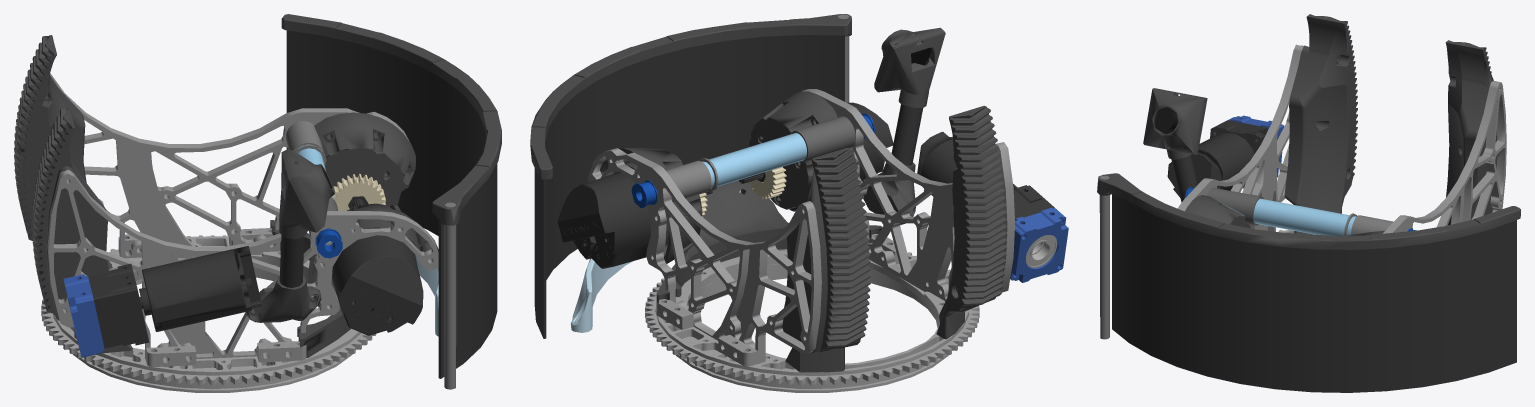
Rendered from 1690-turret.glb.
3 renders of one model, left to right at view 1: azimuth 30°, elevation 25°; view 2: azimuth 150°, elevation 25°; view 3: azimuth 270°, elevation 25°, orthographic. The views are drawn at different scales.
Visible parts, largest first — view 1: Kraken X60 Brushless Motor, 1690-26-451-04A, 1690-26-431-01A-Mirrored, 1690-26-433-03A, 1690-26-431-14A, 217-2625-026 Rev1, 1690-26-431-09A 28T, 1690-26-431-12A, Part 124, Part 15; view 2: 1690-26-451-04A, Kraken X60 Brushless Motor, 1690-26-431-01A-Mirrored, 1690-26-433-03A, Part 122, 217-2625-026 Rev1, 1690-26-431-11A, Part 15, 1690-26-431-12A, 1690-26-431-09A 28T, 217-2742-001 Rev4, Part 124 (+1 smaller); view 3: Kraken X60 Brushless Motor, 1690-26-451-04A, 1690-26-431-01A-Mirrored, Part 122, 1690-26-431-14A, 1690-26-431-11A, 1690-26-431-12A, Part 117, 217-2625-026 Rev1.
Boxes of the visible parts, x1=… form: Kraken X60 Brushless Motor: x1=88, y1=30, x2=497, y2=378; 1690-26-451-04A: x1=14, y1=14, x2=501, y2=357; 1690-26-431-01A-Mirrored: x1=47, y1=73, x2=438, y2=366; 1690-26-433-03A: x1=41, y1=235, x2=376, y2=392; 1690-26-431-14A: x1=295, y1=145, x2=456, y2=389; 217-2625-026 Rev1: x1=63, y1=274, x2=104, y2=357; 1690-26-431-09A 28T: x1=332, y1=173, x2=385, y2=210; 1690-26-431-12A: x1=285, y1=121, x2=323, y2=157; Part 124: x1=315, y1=228, x2=342, y2=258; Part 15: x1=415, y1=255, x2=438, y2=336; 1690-26-451-04A: x1=530, y1=14, x2=1007, y2=372; Kraken X60 Brushless Motor: x1=534, y1=35, x2=1054, y2=338; 1690-26-431-01A-Mirrored: x1=587, y1=89, x2=1014, y2=366; 1690-26-433-03A: x1=645, y1=249, x2=979, y2=392; Part 122: x1=702, y1=133, x2=806, y2=188; 217-2625-026 Rev1: x1=1010, y1=207, x2=1068, y2=282; 1690-26-431-11A: x1=790, y1=116, x2=855, y2=162; Part 15: x1=570, y1=190, x2=740, y2=332; 1690-26-431-12A: x1=665, y1=160, x2=711, y2=202; 1690-26-431-09A 28T: x1=699, y1=166, x2=786, y2=216; 217-2742-001 Rev4: x1=1026, y1=235, x2=1057, y2=267; Part 124: x1=631, y1=113, x2=875, y2=207; Kraken X60 Brushless Motor: x1=1112, y1=120, x2=1516, y2=392; 1690-26-451-04A: x1=1097, y1=14, x2=1520, y2=249; 1690-26-431-01A-Mirrored: x1=1178, y1=44, x2=1506, y2=233; Part 122: x1=1217, y1=198, x2=1356, y2=235; 1690-26-431-14A: x1=1099, y1=175, x2=1357, y2=339; 1690-26-431-11A: x1=1206, y1=187, x2=1263, y2=225; 1690-26-431-12A: x1=1351, y1=215, x2=1393, y2=234; Part 117: x1=1155, y1=107, x2=1177, y2=133; 217-2625-026 Rev1: x1=1228, y1=115, x2=1284, y2=177.
Bounding box in the file's own units: 0.3557 × 0.1914 × 0.3294.
